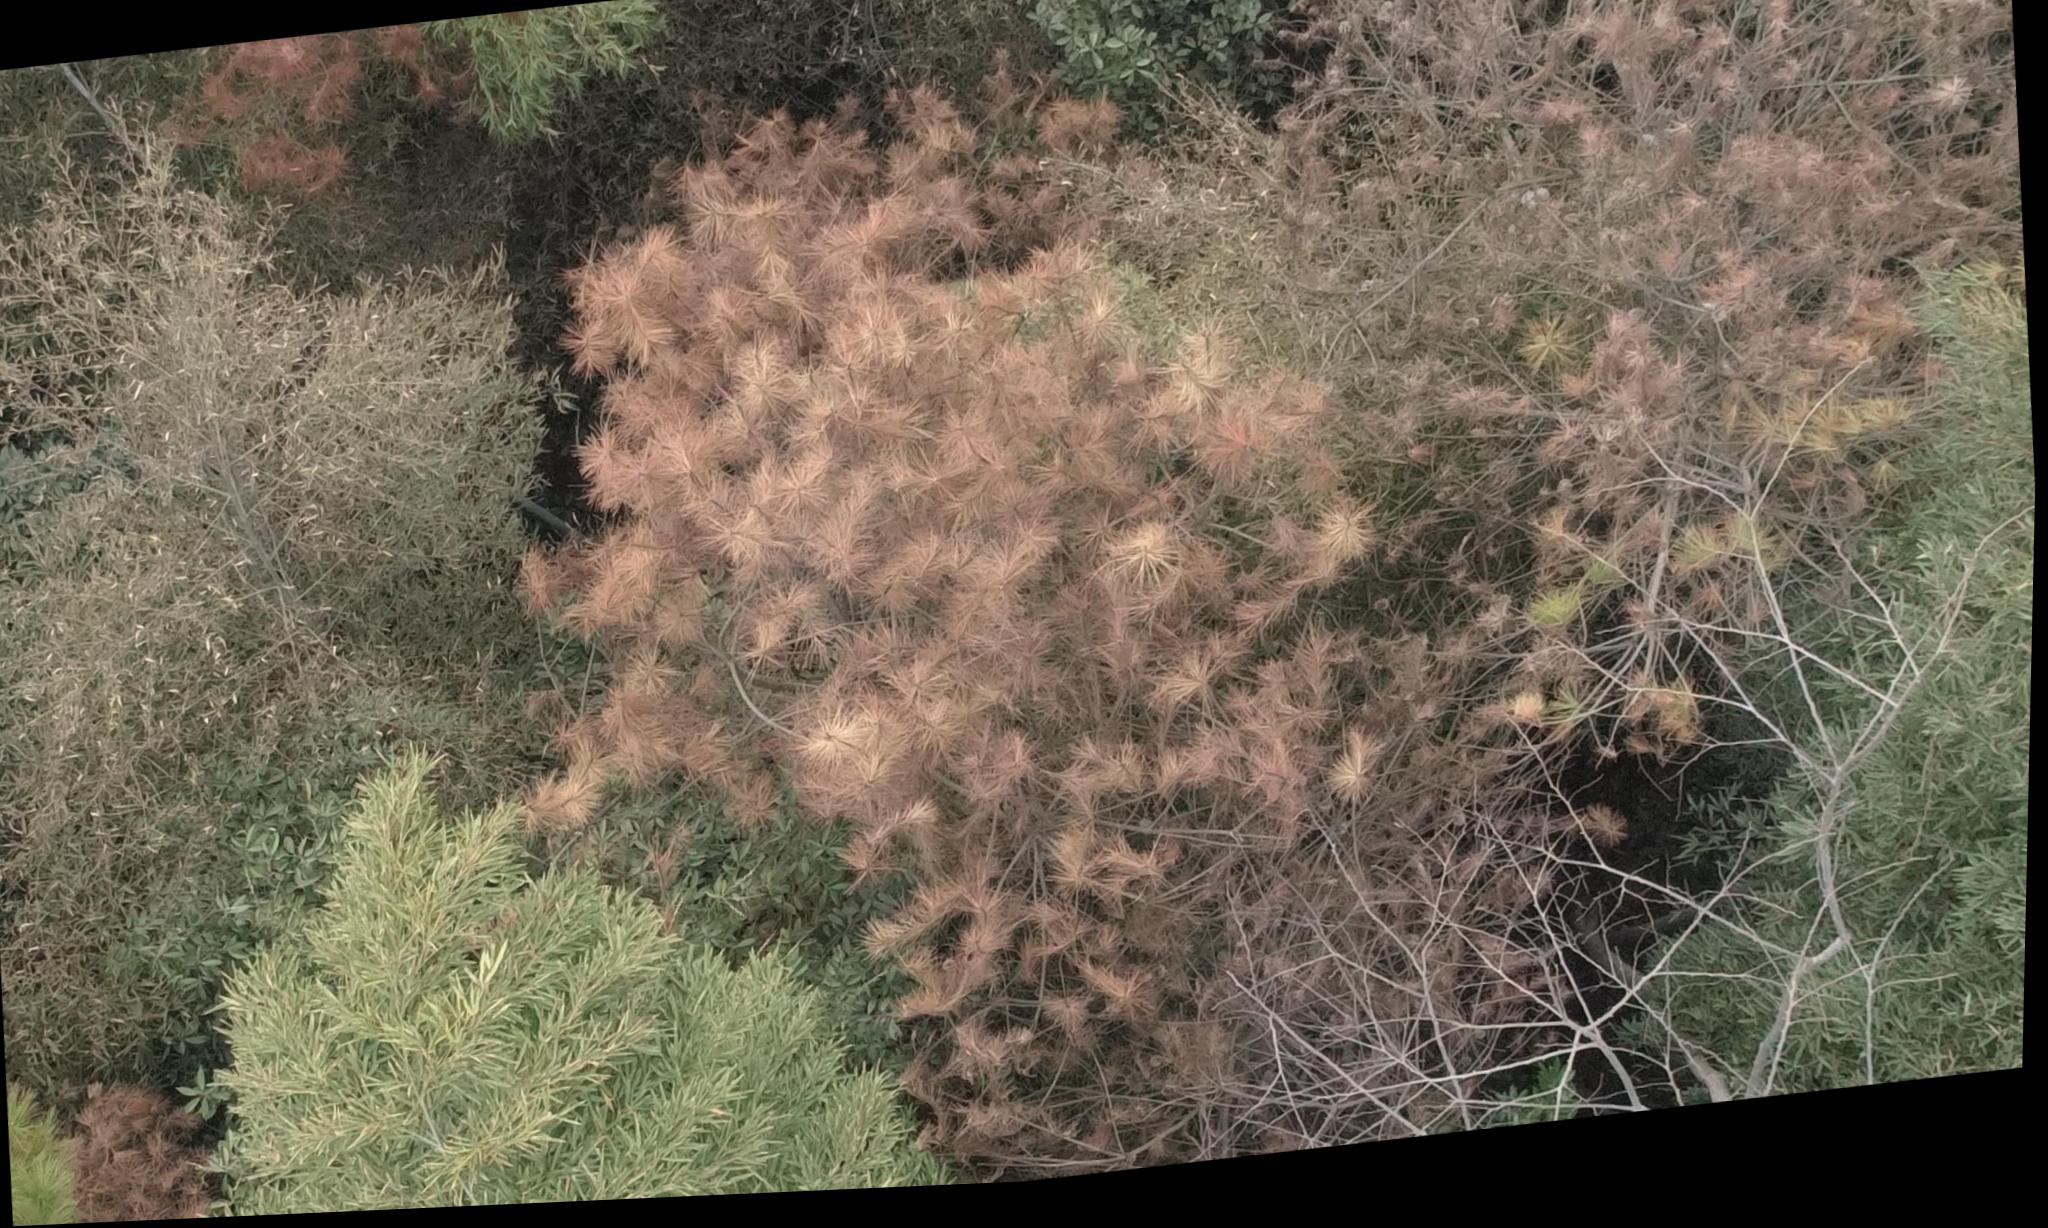heavy: (491, 0, 2048, 1151), (155, 34, 460, 212), (72, 1074, 213, 1225)
